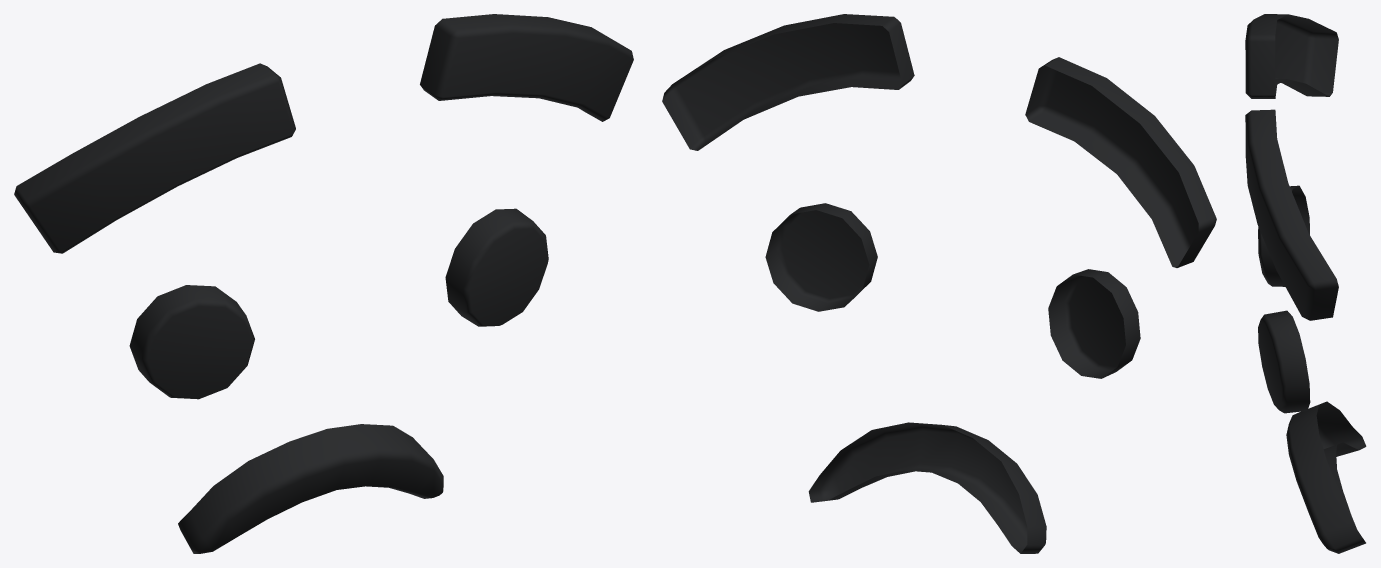
Rendered from Male_Emotion_Sad_01.glb.
3 renders of one model, left to right at view 1: azimuth 30°, elevation 25°; view 2: azimuth 150°, elevation 25°; view 3: azimuth 270°, elevation 25°, orthographic. The views are drawn at different scales.
Parts seen in each view (by area): view 1: Male_Emotion_Sad_01; view 2: Male_Emotion_Sad_01; view 3: Male_Emotion_Sad_01.
Part boxes in pixels (x1,y1,x2,y2): Male_Emotion_Sad_01: (14, 14, 633, 553); Male_Emotion_Sad_01: (662, 14, 1216, 553); Male_Emotion_Sad_01: (1245, 14, 1366, 553).
Bounding box in the file's own units: 0.2545 × 0.204 × 0.0518.
1 material, 1 textured.
